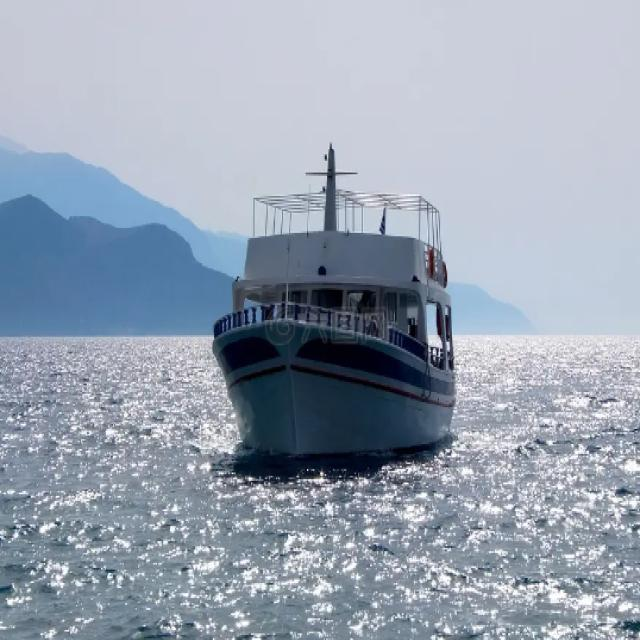houseboat: (195, 144, 458, 464)
